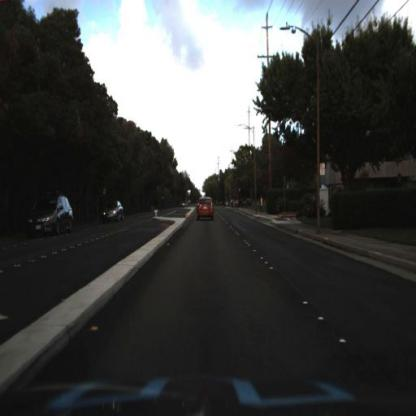car: (26, 194, 75, 239), (100, 195, 126, 226), (195, 194, 215, 222), (102, 200, 124, 224)
pedestrian: (260, 195, 264, 216)
